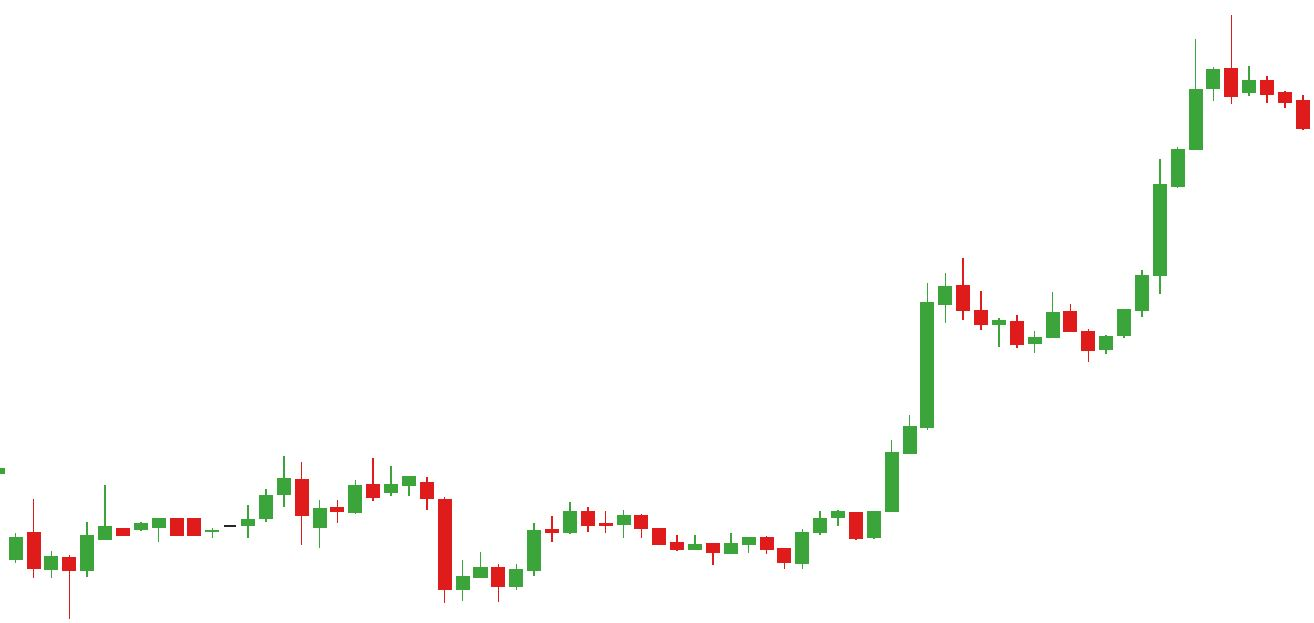sell: (98, 455, 311, 527)
